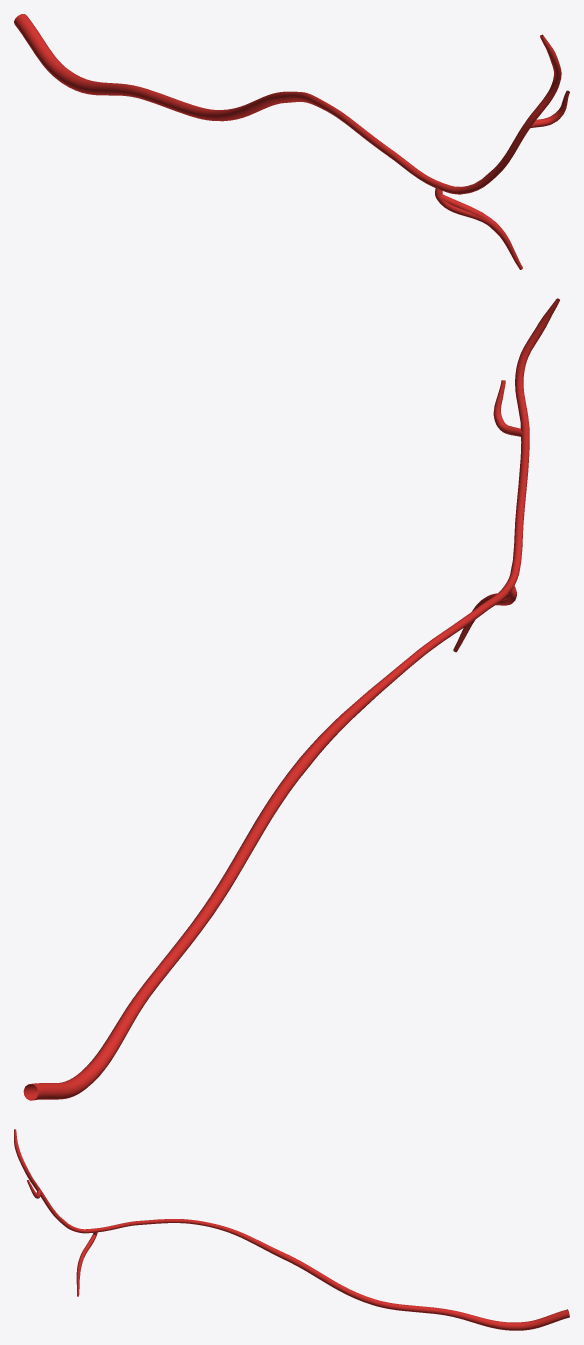
Rendered from circulatorio-supratrochlear-artery-r.glb.
3 renders of one model, top to bottom at view 1: azimuth 30°, elevation 25°; view 2: azimuth 150°, elevation 25°; view 3: azimuth 270°, elevation 25°, orthographic. The views are drawn at different scales.
Parts seen in each view (by area): view 1: Supratrochlear artery.r; view 2: Supratrochlear artery.r; view 3: Supratrochlear artery.r.
Part boxes in pixels (<box>): Supratrochlear artery.r: <box>14,14,569,269</box>; Supratrochlear artery.r: <box>23,298,559,1100</box>; Supratrochlear artery.r: <box>14,1129,569,1330</box>.
Bounding box in the file's own units: 0.00525 × 0.0216 × 0.0524.
